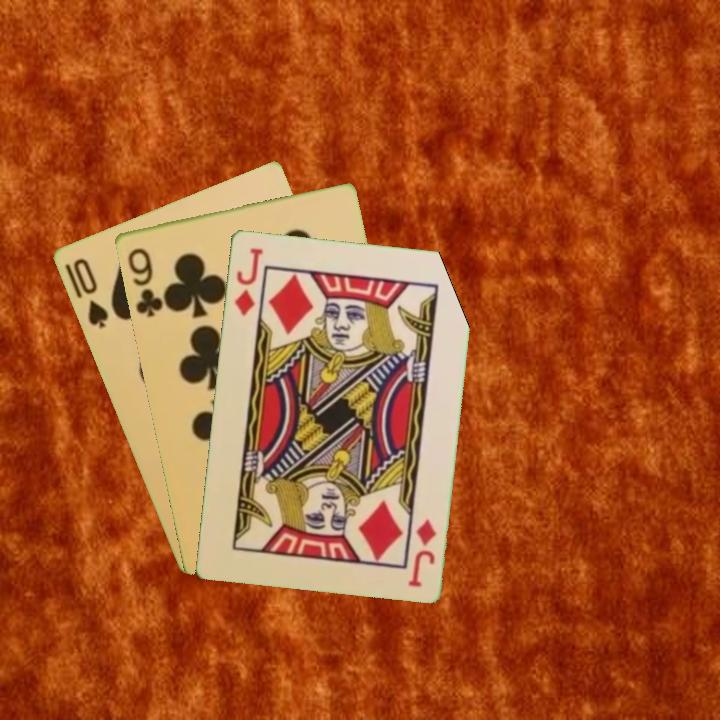10s: (69, 254, 111, 331)
9c: (124, 244, 166, 320)
Jd: (230, 244, 266, 318), (404, 515, 439, 590)
